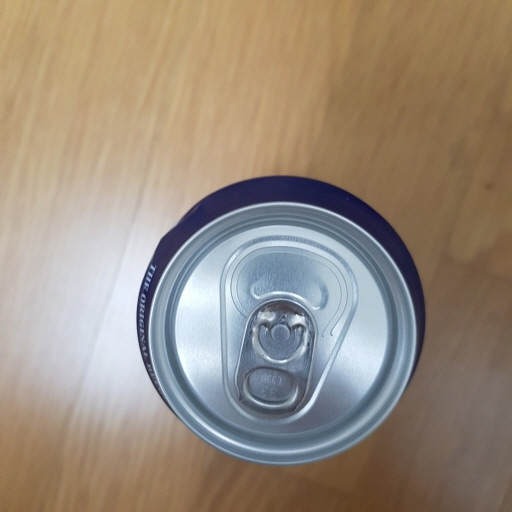Metal_0: (124, 175, 429, 467)
